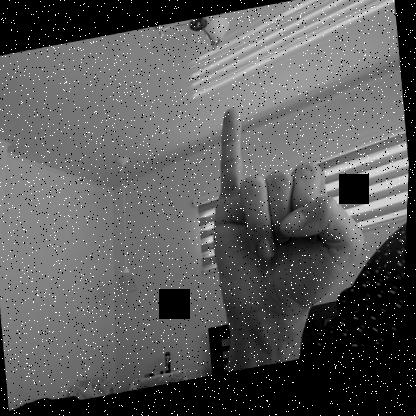I: (191, 87, 379, 333)
